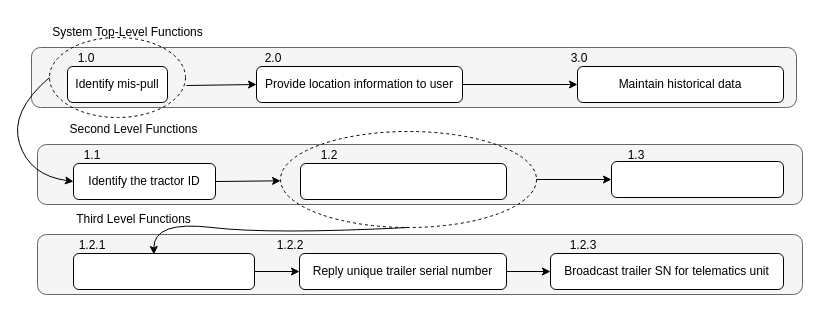
Some shapes in this 820 by 312 pixel diagram are drawn without their labels. Here are the shapes that lost their labels. From the top down, the box of each, then its label:
(300, 162, 506, 200): Identify the trailer ID
(610, 160, 784, 198): Compare ID combination
(72, 252, 254, 290): Request trailer serial number
